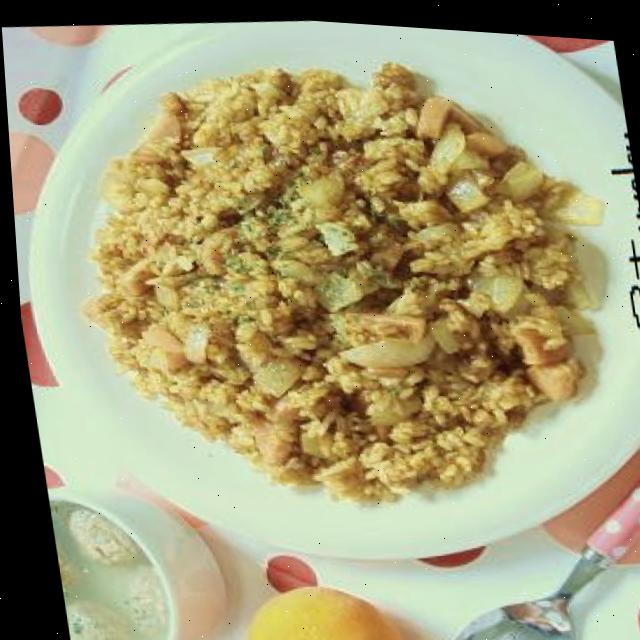米饭主食: (32, 23, 640, 557)
